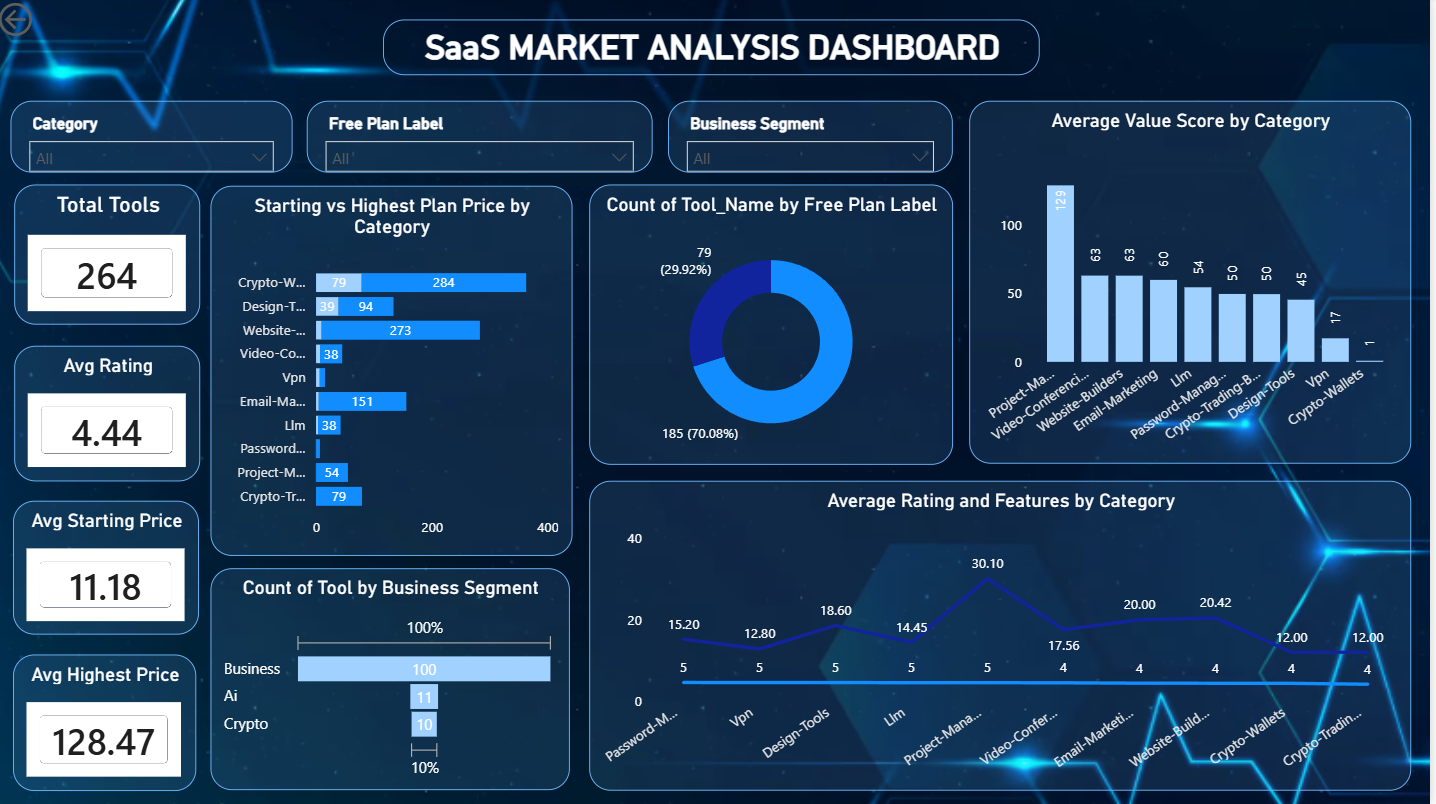

The dashboard page shown, as its layout file describes it:
{"tool":"powerbi","page":{"name":"Page 1","canvas":[1280,720],"ordinal":0},"visuals":[{"type":"textbox","title":"SaaS MARKET ANALYSIS DASHBOARD ","box":[347.6,19.9,585.1,49.5],"z":0},{"type":"barChart","title":"Starting vs Highest Plan Price by Category","fields":{"Category":["saas-market-2026.Category"],"Y":["Avg(saas-market-2026.Starting_Price_Usd)","Avg(saas-market-2026.Highest_Plan_Price_Usd)"]},"box":[194.2,167.7,322.1,329.4],"z":1000},{"type":"donutChart","title":"Count of Tool_Name by Free Plan Label","fields":{"Category":["saas-market-2026.Free Plan Label"],"Y":["CountNonNull(saas-market-2026.Tool_Name)"]},"box":[530.7,167.2,323.7,249.4],"z":2000},{"type":"funnel","title":"Count of Tool by Business Segment ","fields":{"Category":["saas-market-2026.Vertical"],"Y":["CountNonNull(saas-market-2026.Tool_Name)"]},"box":[194.2,509.1,319.7,197.9],"z":3000},{"type":"lineChart","title":"Average Rating and Features by Category","fields":{"Category":["saas-market-2026.Category"],"Y":["Avg(saas-market-2026.Rrating)","Avg(saas-market-2026.Features_Count)"]},"box":[530.7,431.2,732.3,276],"z":4000},{"type":"columnChart","title":"Average Value Score by Category","fields":{"Y":["Avg(saas-market-2026.Value Score)"],"Category":["saas-market-2026.Category"]},"box":[869.8,92.9,393.3,323.3],"z":5000},{"type":"actionButton","box":[0,0,100,40],"z":6000},{"type":"cardVisual","title":"Total Tools ","fields":{"Data":["CountNonNull(saas-market-2026.Tool_Name)"]},"box":[18.6,167.2,165.8,124.7],"z":7000},{"type":"cardVisual","title":"Avg Rating","fields":{"Data":["Avg(saas-market-2026.Rrating)"]},"box":[18.6,310.4,165.8,120.7],"z":8000},{"type":"cardVisual","title":"Avg Starting Price ","fields":{"Data":["Avg(saas-market-2026.Starting_Price_Usd)"]},"box":[18.1,448.8,165.8,119.4],"z":9000},{"type":"cardVisual","title":"Avg Highest Price ","fields":{"Data":["Avg(saas-market-2026.Highest_Plan_Price_Usd)"]},"box":[18.1,585.1,162.9,121.9],"z":10000},{"type":"slicer","fields":{"Values":["saas-market-2026.Category"]},"box":[15.7,92.9,250.9,63.9],"z":11000},{"type":"slicer","fields":{"Values":["saas-market-2026.Free Plan Label"]},"box":[279.9,92.9,307.6,63.9],"z":12000},{"type":"slicer","fields":{"Values":["saas-market-2026.Vertical"]},"box":[601,92.9,253.4,63.7],"z":13000}]}

Visuals, with their boxes in screenshot pixels (x1, y1, x2, y2), scaled from the page's 1280x720 canvas onto the 1436x804 screenshot:
"SaaS MARKET ANALYSIS DASHBOARD " textbox: box(390, 22, 1046, 77)
"Starting vs Highest Plan Price by Category" barChart: box(218, 187, 579, 555)
"Count of Tool_Name by Free Plan Label" donutChart: box(595, 187, 959, 465)
"Count of Tool by Business Segment " funnel: box(218, 568, 577, 789)
"Average Rating and Features by Category" lineChart: box(595, 482, 1417, 790)
"Average Value Score by Category" columnChart: box(976, 104, 1417, 465)
actionButton: box(0, 0, 112, 45)
"Total Tools " cardVisual: box(21, 187, 207, 326)
"Avg Rating" cardVisual: box(21, 347, 207, 481)
"Avg Starting Price " cardVisual: box(20, 501, 206, 634)
"Avg Highest Price " cardVisual: box(20, 653, 203, 789)
slicer - saas-market-2026.Category: box(18, 104, 299, 175)
slicer - saas-market-2026.Free Plan Label: box(314, 104, 659, 175)
slicer - saas-market-2026.Vertical: box(674, 104, 959, 175)
